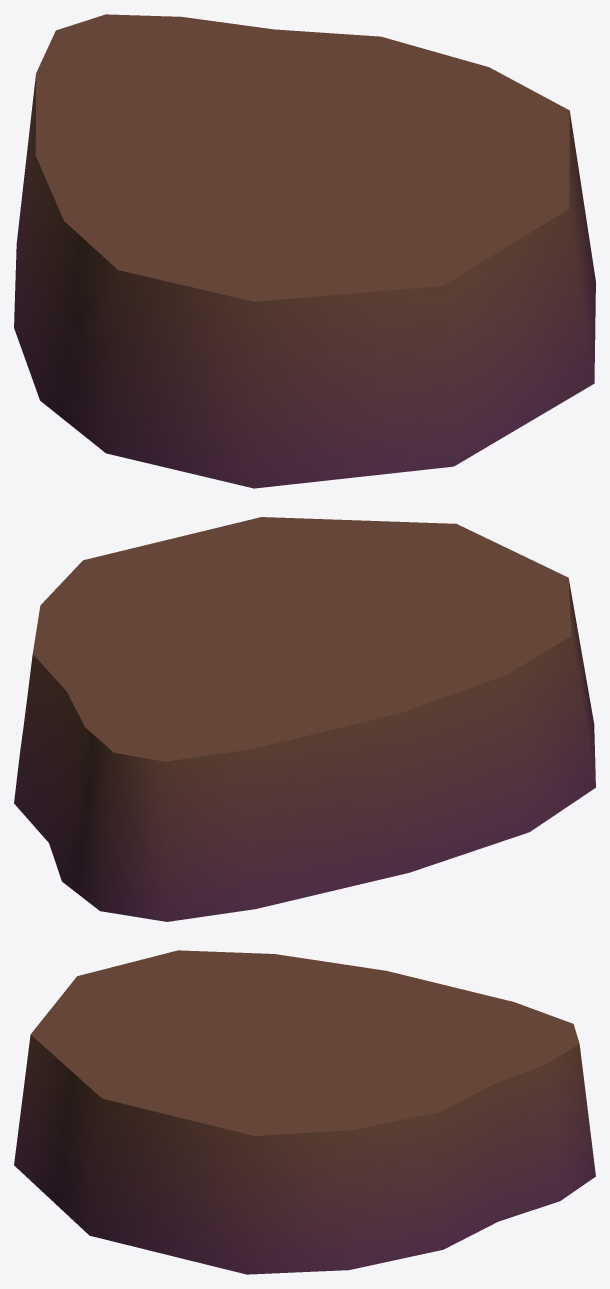
3 views of the same model, one above another, from view 1: azimuth 30°, elevation 25°; view 2: azimuth 150°, elevation 25°; view 3: azimuth 270°, elevation 25° (orthographic). The views are drawn at different scales.
Visible parts, largest first — view 1: Cube.085; view 2: Cube.085; view 3: Cube.085.
Boxes of the visible parts, x1,y1,x2,y2 form: Cube.085: (14,14,595,488); Cube.085: (14,517,595,921); Cube.085: (14,950,595,1274).
Bounding box in the file's own units: 15.43 × 4.69 × 18.9.
